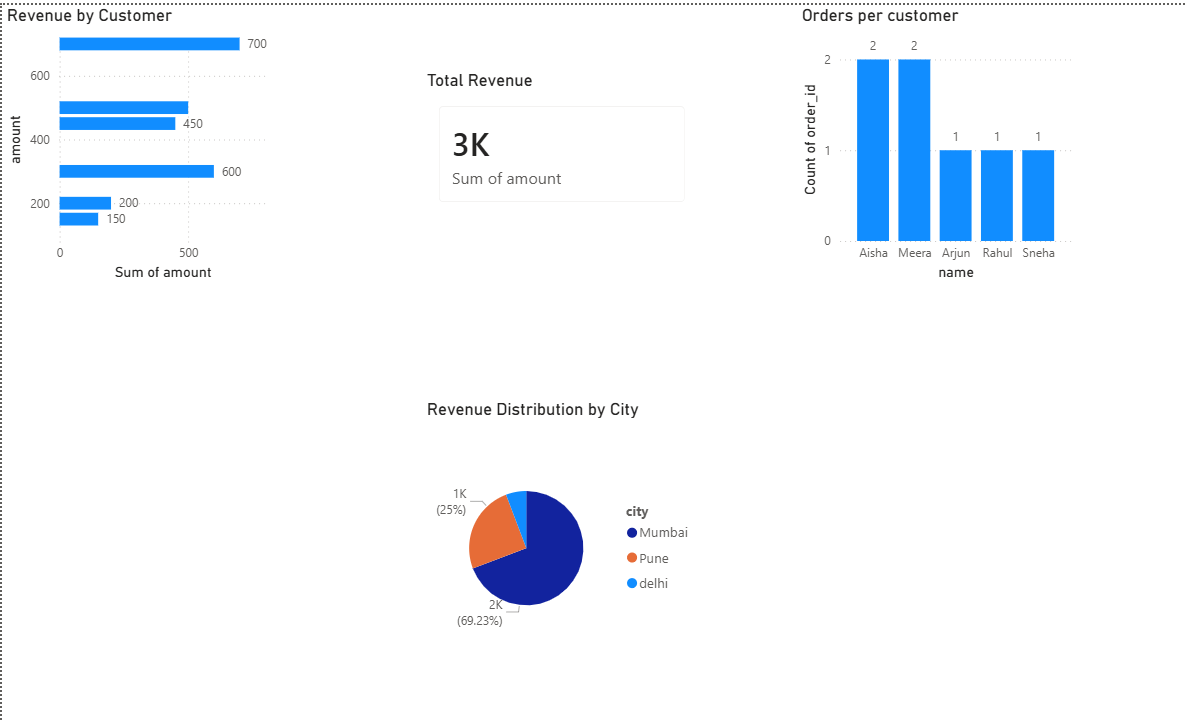

Layout of this report page (visuals, bound fields, positions):
{"tool":"powerbi","page":{"name":"Page 1","canvas":[1280,720],"ordinal":0},"visuals":[{"type":"clusteredBarChart","title":"Revenue by Customer","fields":{"Y":["Sum(orders.amount)"],"Category":["orders.amount"]},"box":[0,0,280,280],"z":0},{"type":"pieChart","title":"Revenue Distribution by City","fields":{"Category":["customers.city"],"Y":["Sum(orders.amount)"]},"box":[420,393.8,280,280],"z":1000},{"type":"cardVisual","title":"Total Revenue","fields":{"Data":["Sum(orders.amount)"]},"box":[420,65,280,150],"z":2000},{"type":"clusteredColumnChart","title":"Orders per customer","fields":{"Category":["customers.name"],"Y":["CountNonNull(orders.order_id )"]},"box":[795,0,280,280],"z":3000}]}

Visuals, with their boxes on the page's 1280x720 design canvas (x1, y1, x2, y2). These are canvas units, not pixel positions in the 1187x720 screenshot, which may show the page scaled, cropped or inside an application window:
"Revenue by Customer" clusteredBarChart: 0/0/280/280
"Revenue Distribution by City" pieChart: 420/394/700/674
"Total Revenue" cardVisual: 420/65/700/215
"Orders per customer" clusteredColumnChart: 795/0/1075/280
